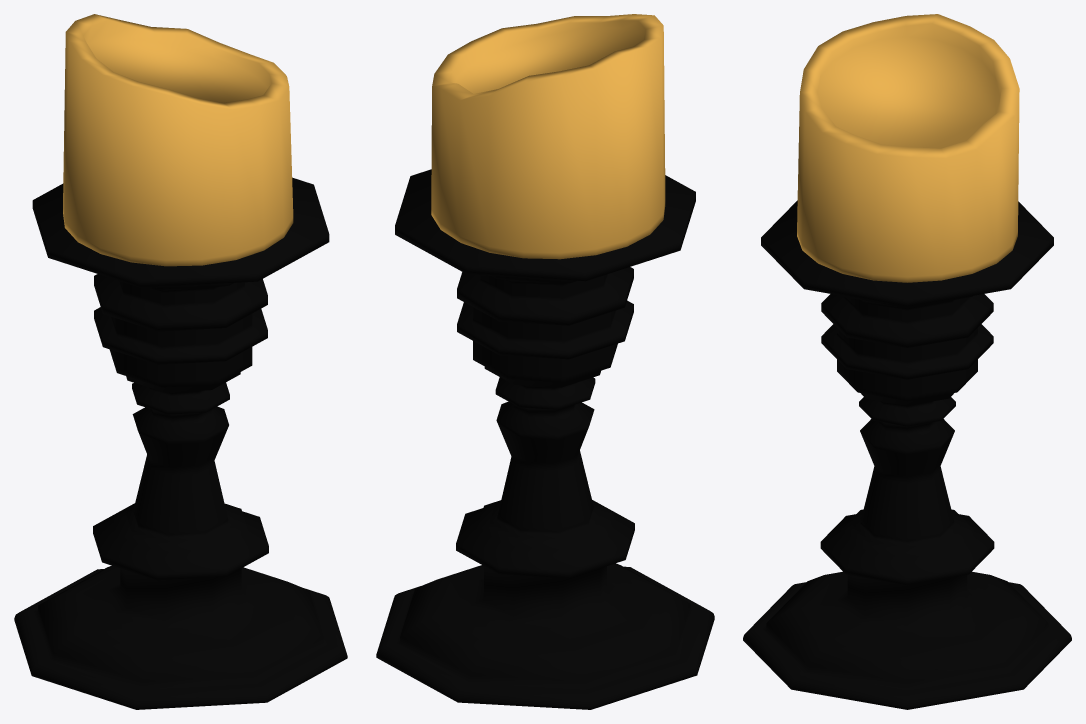
File: light_table_small.fbx
3 views of the same model, side by side, from view 1: azimuth 30°, elevation 25°; view 2: azimuth 150°, elevation 25°; view 3: azimuth 270°, elevation 25° (orthographic). The views are drawn at different scales.
Parts seen in each view (by area): view 1: Cylinder.001; view 2: Cylinder.001; view 3: Cylinder.001.
Boxes of the visible parts, x1,y1,x2,y2 form: Cylinder.001: [14, 14, 347, 709]; Cylinder.001: [376, 14, 714, 709]; Cylinder.001: [743, 14, 1071, 709].
Bounding box in the file's own units: 122 × 238 × 122.
